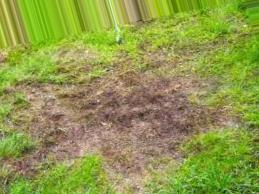patch: (36, 87, 195, 162)
